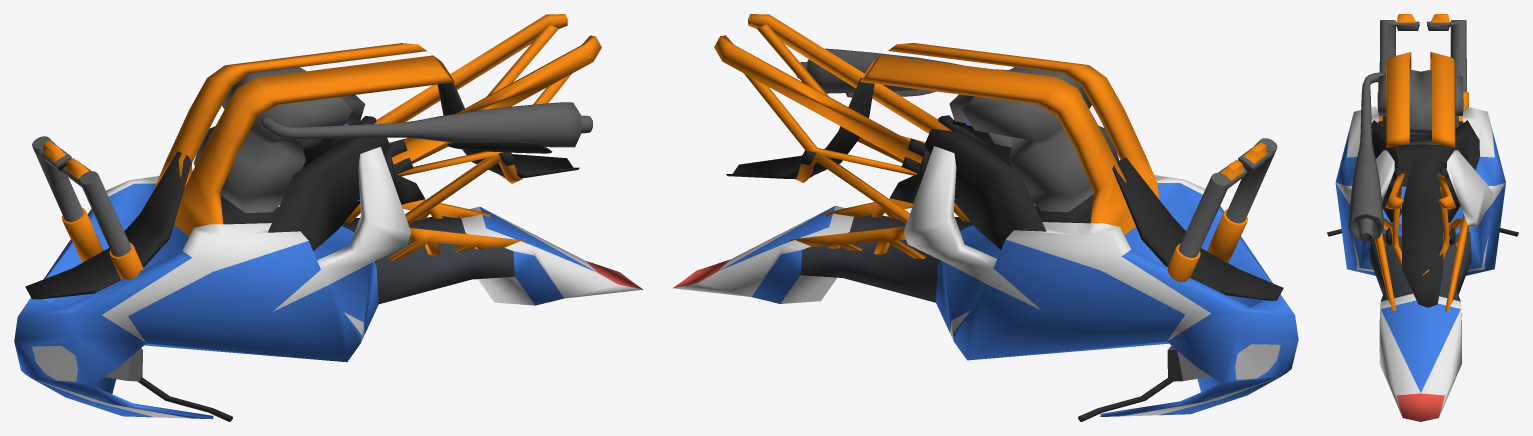
File: adsf.fbx
The picture shows the model from 3 angles, left to right: view 1: azimuth 30°, elevation 25°; view 2: azimuth 150°, elevation 25°; view 3: azimuth 270°, elevation 25°; orthographic projection. The views are drawn at different scales.
Visible parts, largest first — view 1: Plane.003; view 2: Plane.003; view 3: Plane.003.
Part boxes in pixels (x1,y1,x2,y2): Plane.003: [14, 14, 642, 421]; Plane.003: [673, 14, 1298, 421]; Plane.003: [1327, 14, 1518, 421].
Size of the model in its own units: 864 by 406 by 310.
